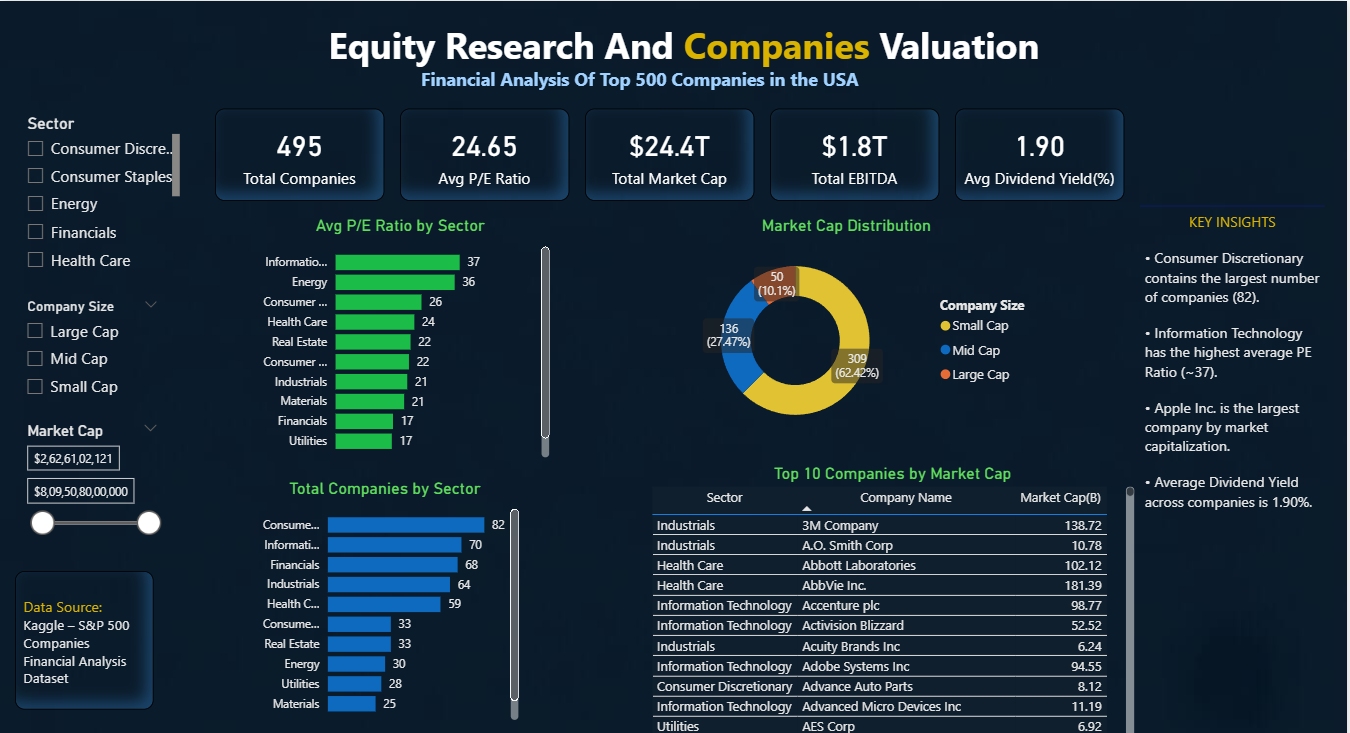

Layout of this report page (visuals, bound fields, positions):
{"tool":"powerbi","page":{"name":"Page 1","canvas":[1400,800],"ordinal":0},"visuals":[{"type":"textbox","box":[336,16,1056,112],"z":0},{"type":"textbox","box":[432,64,496,48],"z":1000},{"type":"card","fields":{"Values":["financial_analysis_cleaned.Total_Companies"]},"box":[224,112,176,96],"z":2000},{"type":"card","fields":{"Values":["financial_analysis_cleaned.Total_Market_Cap"]},"box":[608,112,176,96],"z":3000},{"type":"card","fields":{"Values":["financial_analysis_cleaned.Avg_PE_Ratio"]},"box":[416,112,176,96],"z":4000},{"type":"card","fields":{"Values":["financial_analysis_cleaned.Avg_Dividend_yield"]},"box":[992,112,176,96],"z":5000},{"type":"card","fields":{"Values":["financial_analysis_cleaned.Total_EBITDA"]},"box":[800,112,176,96],"z":6000},{"type":"tableEx","title":"Top 10 Companies by Market Cap","fields":{"Values":["financial_analysis_cleaned.Sector","financial_analysis_cleaned.Name","financial_analysis_cleaned.Market Cap(T)"]},"box":[672,480,512,288],"z":7000},{"type":"clusteredBarChart","fields":{"Category":["financial_analysis_cleaned.Sector"],"Y":["financial_analysis_cleaned.Total Companies"]},"box":[256,496,288,256],"z":8000},{"type":"clusteredBarChart","fields":{"Category":["financial_analysis_cleaned.Sector"],"Y":["financial_analysis_cleaned.Avg P/E Ratio"]},"box":[256,224,320,256],"z":9000},{"type":"donutChart","title":"Market Cap Distribution","fields":{"Y":["CountNonNull(financial_analysis_cleaned.Company Name)"],"Category":["financial_analysis_cleaned.Company Size"]},"box":[672,224,416,240],"z":10000},{"type":"textbox","box":[1184,208,192,560],"z":11000},{"type":"slicer","fields":{"Values":["financial_analysis_cleaned.Sector"]},"box":[16,128,176,176],"z":11001},{"type":"slicer","fields":{"Values":["financial_analysis_cleaned.Company Size"]},"box":[16,336,160,144],"z":11002},{"type":"slicer","fields":{"Values":["financial_analysis_cleaned.Market Cap"]},"box":[16,496,160,176],"z":11003},{"type":"textbox","box":[16,624,144,144],"z":11004}]}

Visuals, with their boxes on the page's 1400x800 design canvas (x1, y1, x2, y2). These are canvas units, not pixel positions in the 1350x733 screenshot, which may show the page scaled, cropped or inside an application window:
textbox: BBox(336, 16, 1392, 128)
textbox: BBox(432, 64, 928, 112)
card - financial_analysis_cleaned.Total_Companies: BBox(224, 112, 400, 208)
card - financial_analysis_cleaned.Total_Market_Cap: BBox(608, 112, 784, 208)
card - financial_analysis_cleaned.Avg_PE_Ratio: BBox(416, 112, 592, 208)
card - financial_analysis_cleaned.Avg_Dividend_yield: BBox(992, 112, 1168, 208)
card - financial_analysis_cleaned.Total_EBITDA: BBox(800, 112, 976, 208)
"Top 10 Companies by Market Cap" tableEx: BBox(672, 480, 1184, 768)
clusteredBarChart - financial_analysis_cleaned.Sector x financial_analysis_cleaned.Total Companies: BBox(256, 496, 544, 752)
clusteredBarChart - financial_analysis_cleaned.Sector x financial_analysis_cleaned.Avg P/E Ratio: BBox(256, 224, 576, 480)
"Market Cap Distribution" donutChart: BBox(672, 224, 1088, 464)
textbox: BBox(1184, 208, 1376, 768)
slicer - financial_analysis_cleaned.Sector: BBox(16, 128, 192, 304)
slicer - financial_analysis_cleaned.Company Size: BBox(16, 336, 176, 480)
slicer - financial_analysis_cleaned.Market Cap: BBox(16, 496, 176, 672)
textbox: BBox(16, 624, 160, 768)
